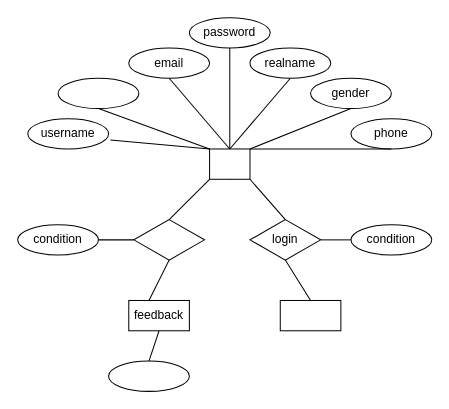
Some shapes in this 449 by 409 pixel diagram are drawn without their labels. Here are the shapes that lost their labels. From the top down, the box of each, then its label:
(57, 77, 139, 109): address
(209, 148, 250, 179): user
(133, 219, 205, 260): submit
(279, 299, 341, 331): identify
(108, 360, 189, 391): information
